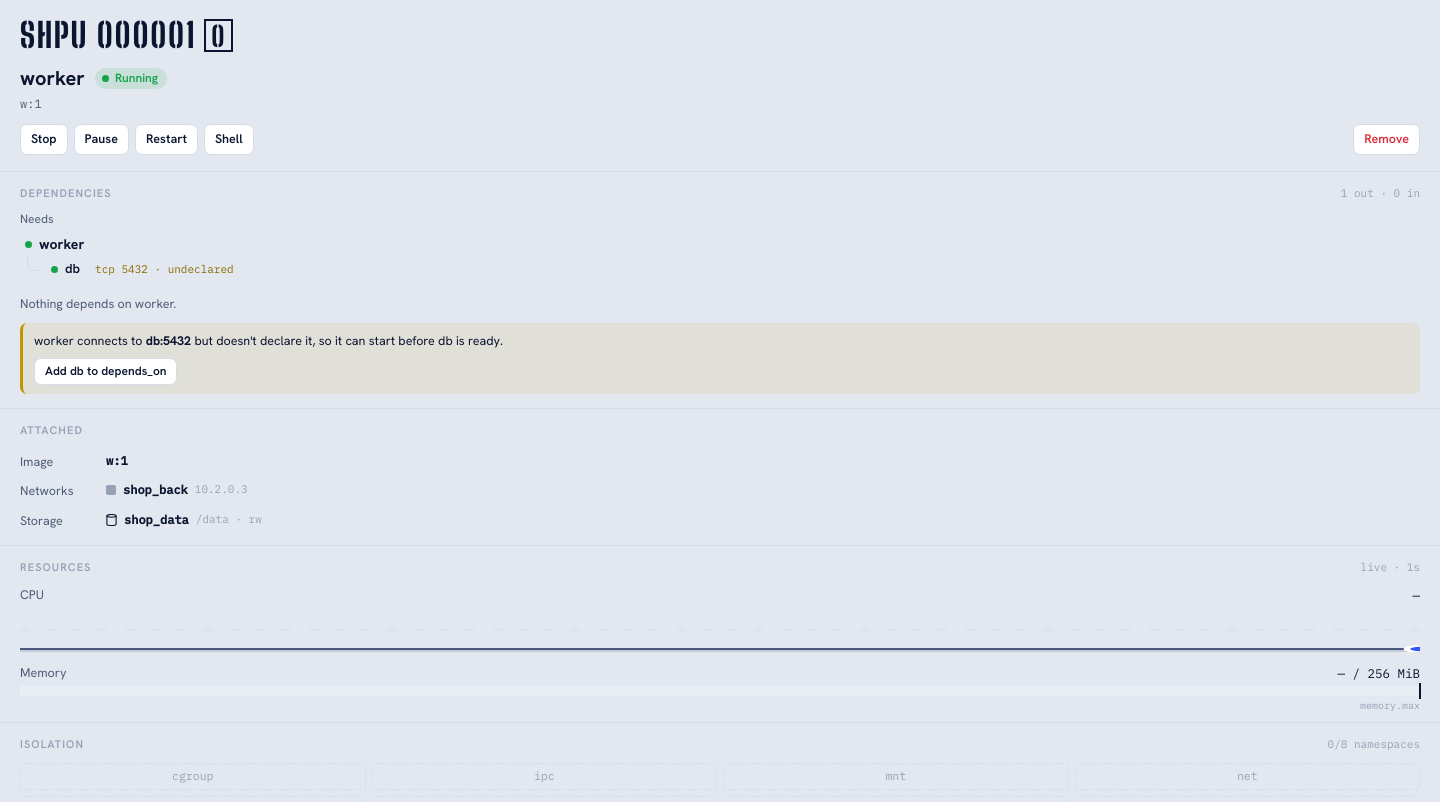
the inspector › says what a container says as text, never as markup, and offers the lines to copy
The image size is (1440, 802).
Click the button "Add db to depends_on": (106, 372) [34,358,178,385]
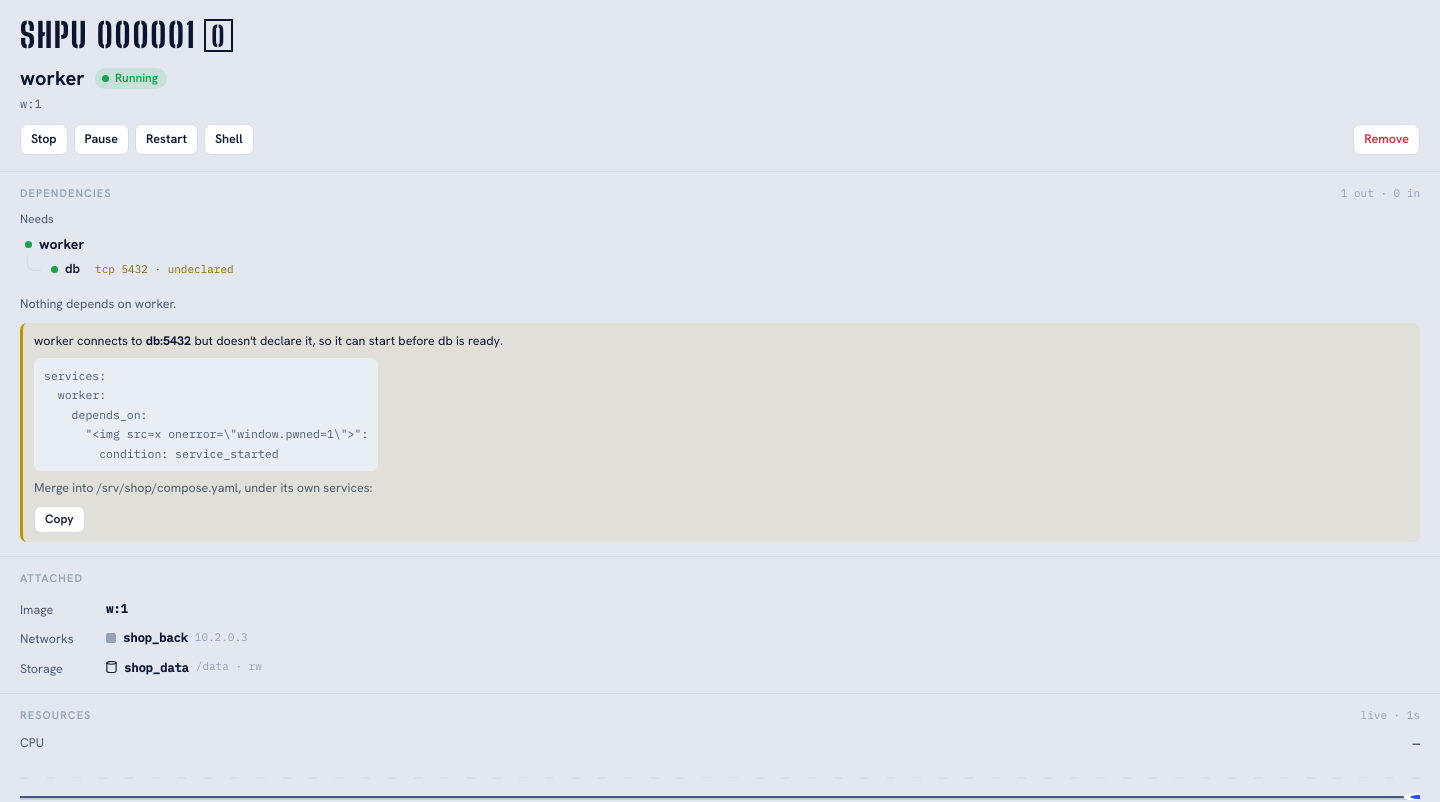
expect the text "Merge into /srv/shop/compose.yaml" is shown: met, box [34,480,372,496]
